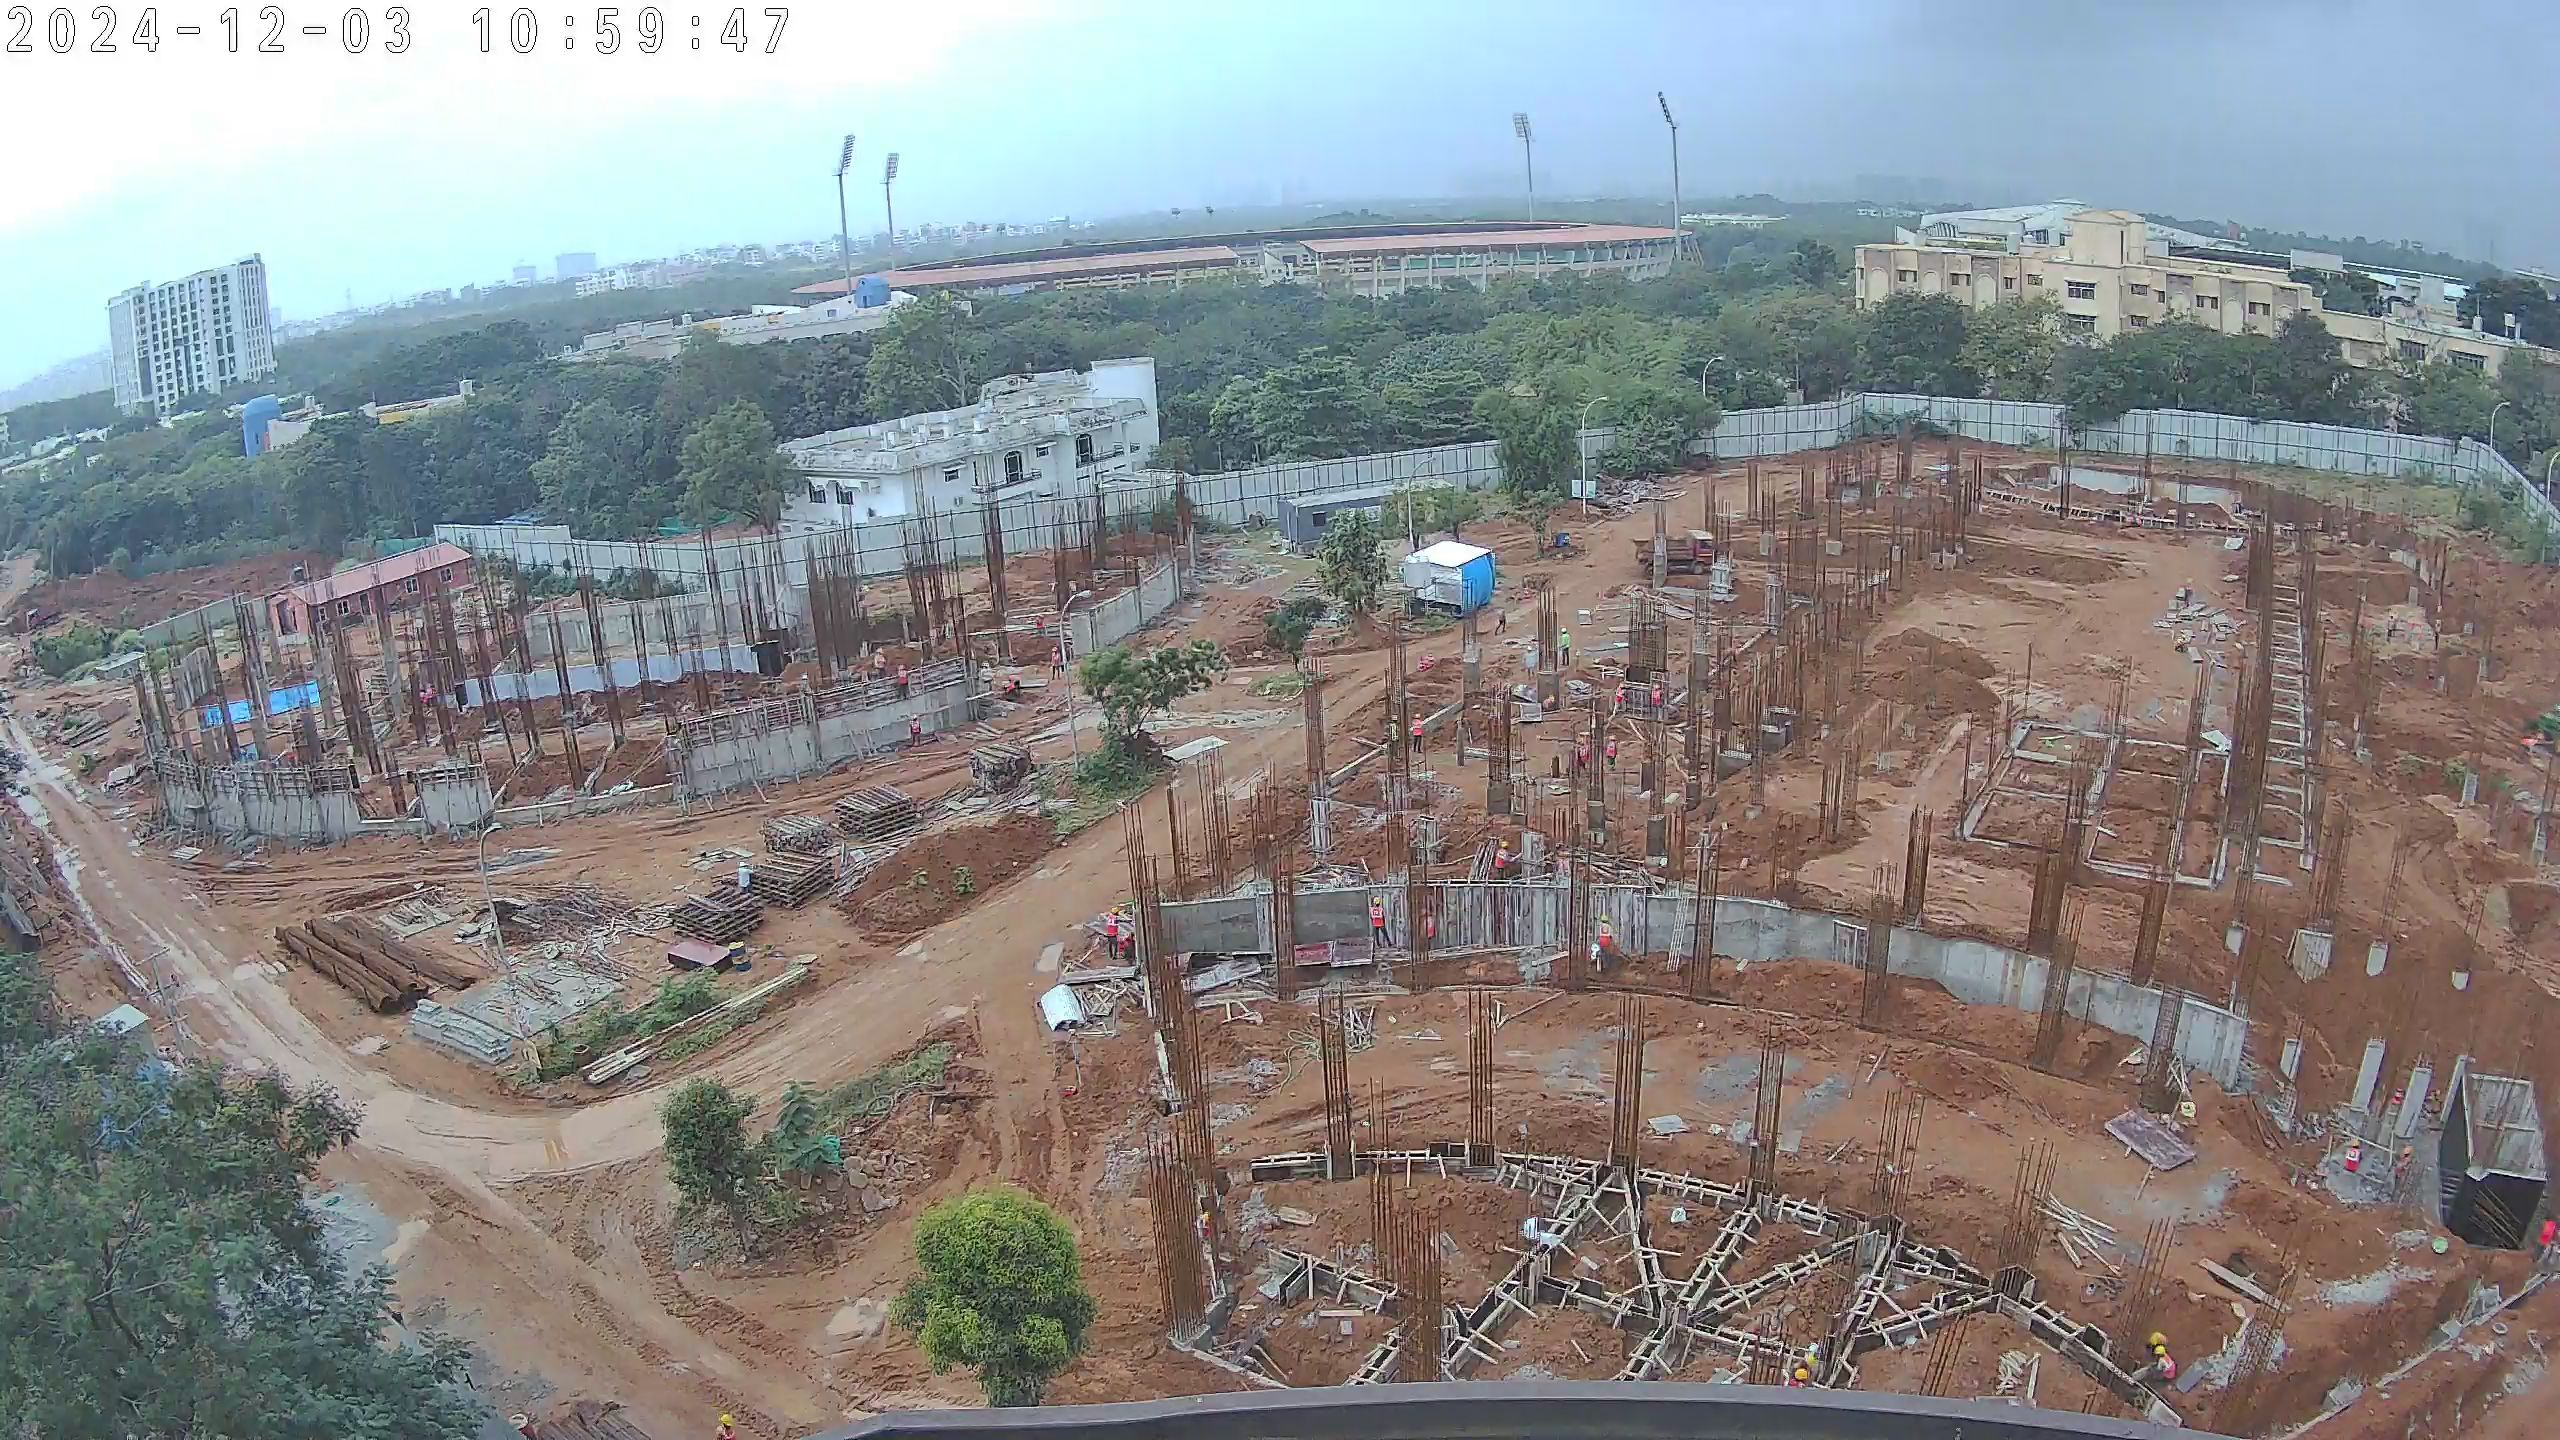truck: (1631, 525, 1714, 574)
worker: (1585, 912, 1627, 983), (2139, 1335, 2175, 1400), (1364, 895, 1391, 954), (710, 1398, 744, 1440), (1102, 902, 1125, 962), (2342, 1134, 2368, 1179), (1406, 708, 1431, 753), (1595, 727, 1620, 764), (1647, 679, 1667, 720), (1485, 843, 1508, 875), (1047, 645, 1066, 683), (894, 662, 912, 702), (908, 708, 924, 753), (1522, 639, 1539, 681), (1550, 622, 1568, 660), (1610, 677, 1626, 718), (1001, 670, 1023, 699), (1494, 604, 1509, 638), (1031, 609, 1047, 638)
